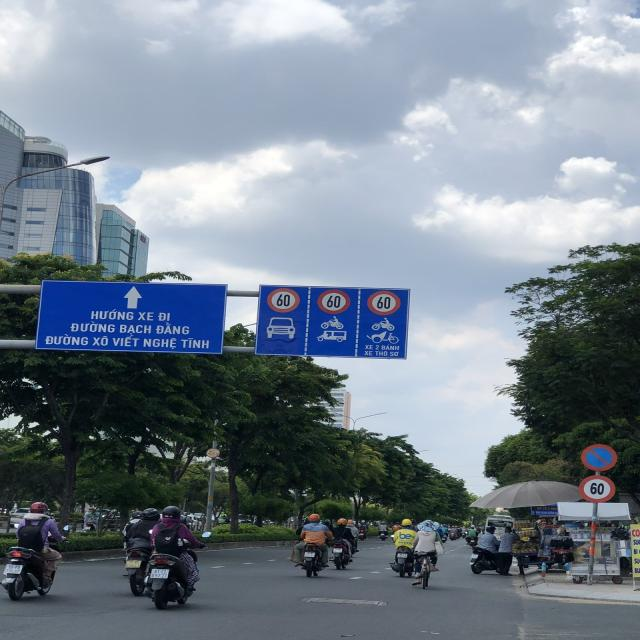Bien bao cam do xe: (580, 442, 620, 473)
Bien bao toc do toi da cho phep: (361, 285, 405, 316), (576, 472, 619, 502), (317, 287, 352, 316), (265, 287, 301, 313)
